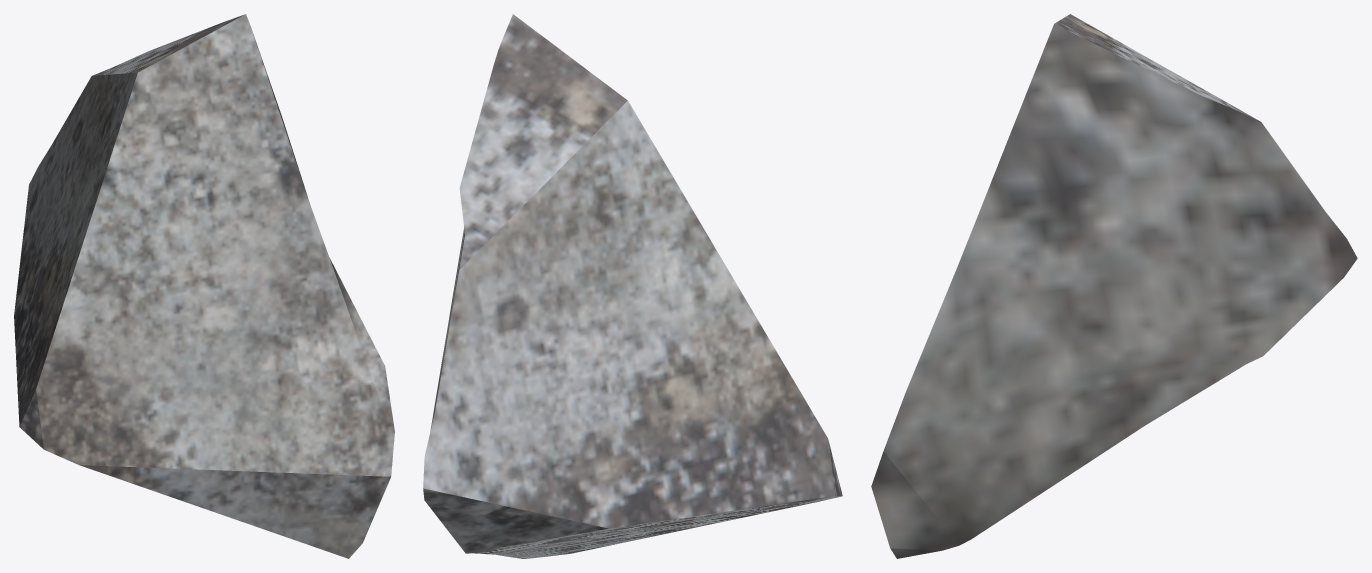
File: Asteroid_Large_001_02_007_03_022.fbx
3 renders of one model, left to right at view 1: azimuth 30°, elevation 25°; view 2: azimuth 150°, elevation 25°; view 3: azimuth 270°, elevation 25°, orthographic. The views are drawn at different scales.
Visible parts, largest first — view 1: Asteroid_Large_001_02_007_03_022; view 2: Asteroid_Large_001_02_007_03_022; view 3: Asteroid_Large_001_02_007_03_022.
Part boxes in pixels (left/top/right/bottom): Asteroid_Large_001_02_007_03_022: left=14, top=14, right=394, bottom=558; Asteroid_Large_001_02_007_03_022: left=423, top=14, right=842, bottom=558; Asteroid_Large_001_02_007_03_022: left=871, top=14, right=1357, bottom=558.
Size of the model in its own units: 5.23 by 7.97 by 6.74.
